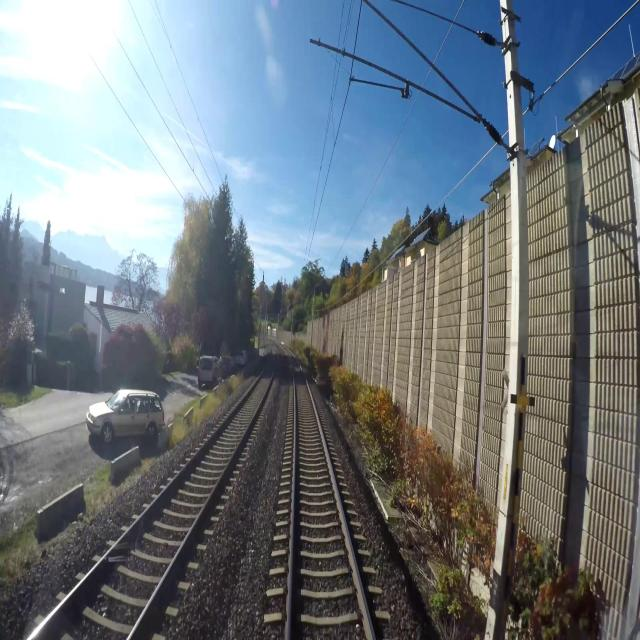rail-track: (34, 347, 275, 639), (290, 354, 371, 639)
